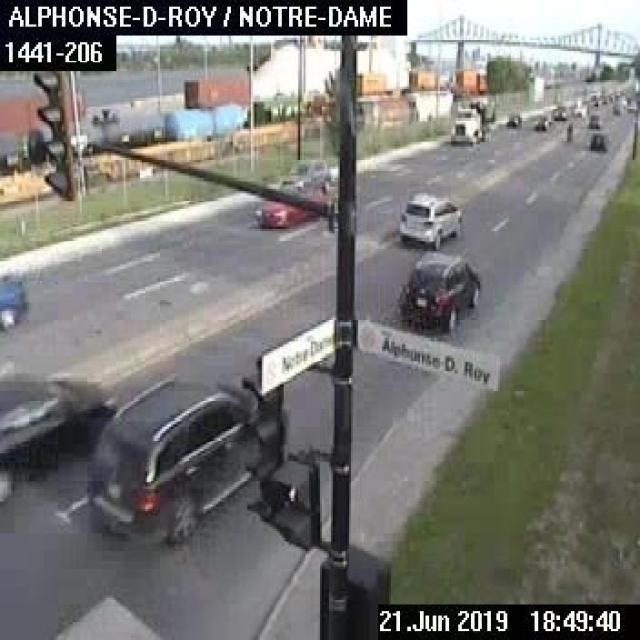vehicle: (83, 364, 288, 544), (0, 368, 118, 508), (395, 249, 480, 329), (396, 187, 464, 250), (255, 188, 333, 231), (447, 96, 495, 140), (275, 156, 330, 193), (0, 266, 25, 326), (586, 132, 608, 152), (585, 109, 602, 129), (531, 114, 548, 129), (505, 109, 522, 124), (550, 103, 567, 118), (565, 121, 571, 141)
